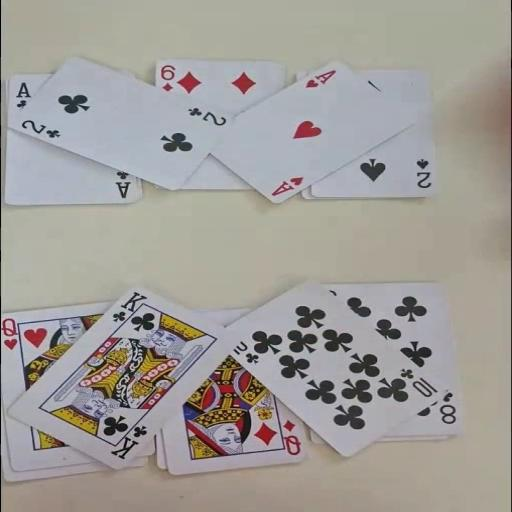10: (398, 366, 439, 398), (231, 339, 260, 364)
2: (185, 105, 229, 127), (19, 118, 62, 139), (414, 157, 433, 189)
6: (158, 64, 176, 92)
A: (268, 174, 305, 198), (302, 67, 338, 89), (114, 169, 132, 199), (14, 80, 32, 109)
K: (107, 418, 149, 460), (109, 289, 149, 326)
Q: (280, 418, 304, 457), (0, 316, 19, 350)
